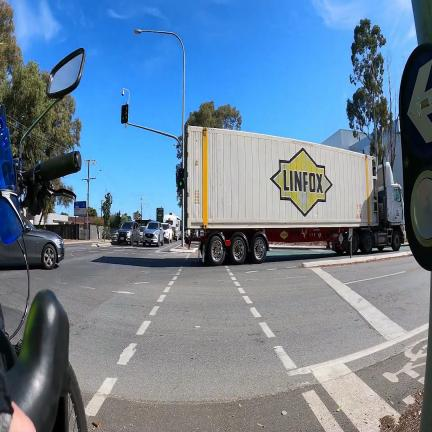Bike_Lane: (88, 335, 428, 432)
Green_Bike_Lane: (266, 248, 336, 262)
